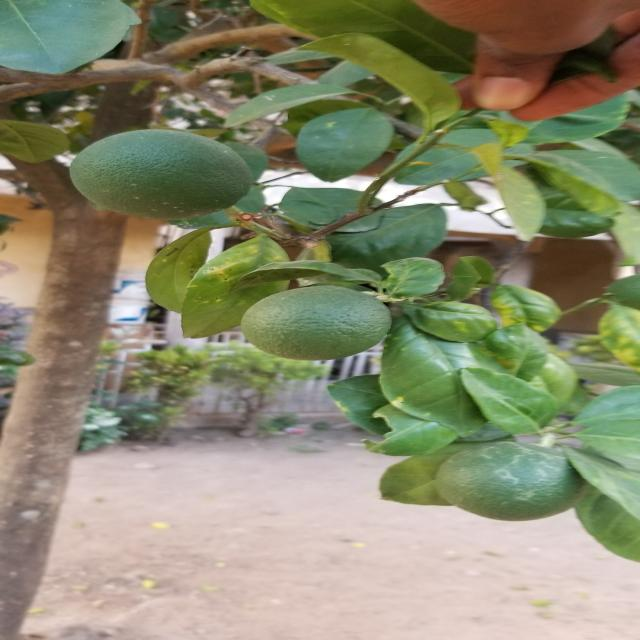Unripe: (55, 124, 278, 233), (216, 278, 414, 374), (428, 435, 598, 536)
